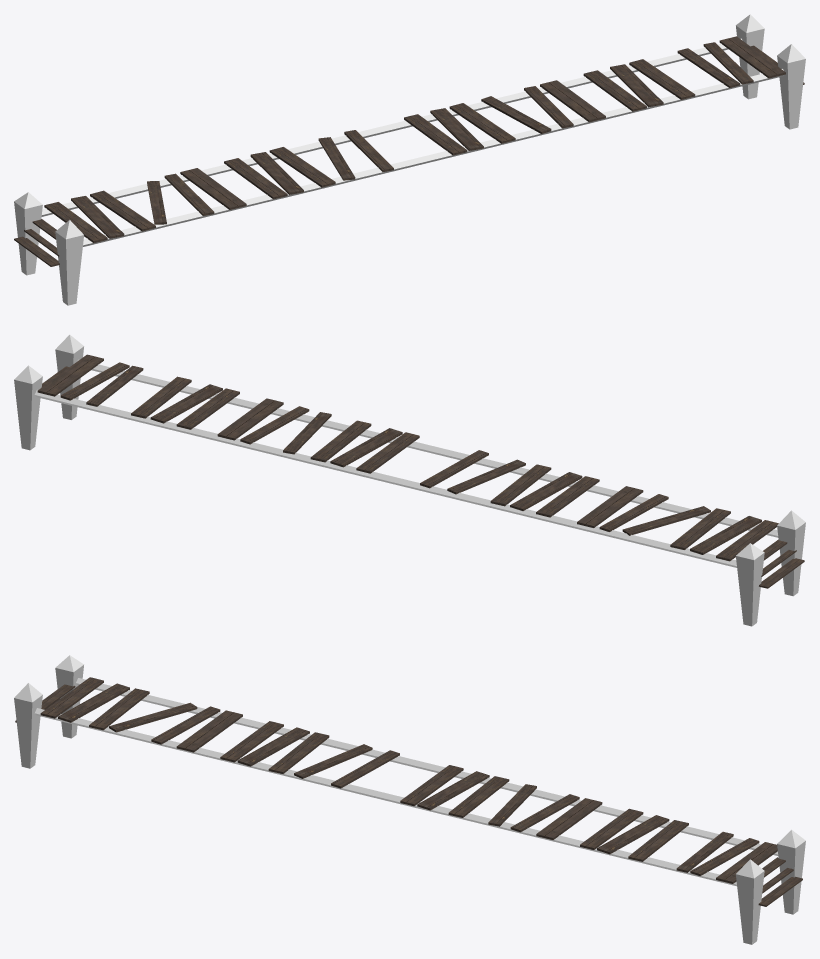
The model's file is OldShabbyBridge.fbx.
3 renders of one model, top to bottom at view 1: azimuth 30°, elevation 25°; view 2: azimuth 150°, elevation 25°; view 3: azimuth 330°, elevation 25°, orthographic.
Visible parts, largest first — view 1: Cube.001; view 2: Cube.001; view 3: Cube.001.
Boxes of the visible parts, x1,y1,x2,y2 form: Cube.001: [14, 14, 805, 305]; Cube.001: [14, 334, 805, 626]; Cube.001: [14, 655, 805, 944].
Bounding box in the file's own units: 4210 × 445 × 511.
Materials: 3 (1 with a texture image).
